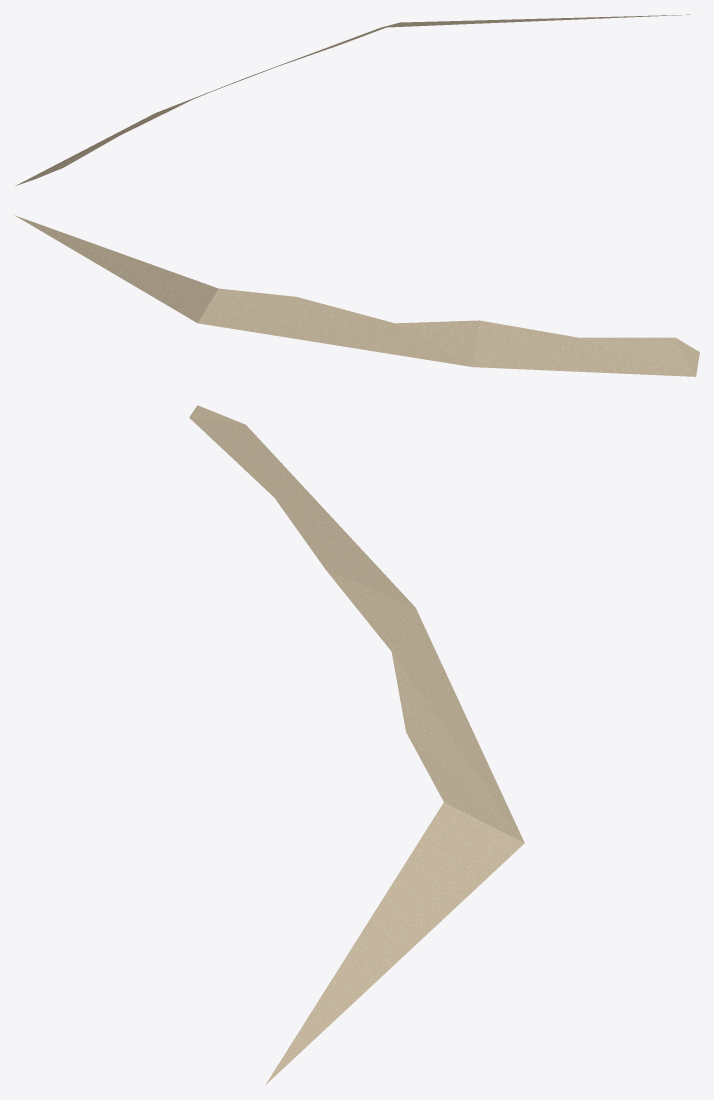
File: kd_stage_1364a3_11_18.glb
3 views of the same model, one above another, from view 1: azimuth 30°, elevation 25°; view 2: azimuth 150°, elevation 25°; view 3: azimuth 270°, elevation 25° (orthographic). The views are drawn at different scales.
Visible parts, largest first — view 1: kd_stage_1364a3_11_18; view 2: kd_stage_1364a3_11_18; view 3: kd_stage_1364a3_11_18.
Boxes of the visible parts, box(x1,y1,x2,y2) form: kd_stage_1364a3_11_18: box(15, 14, 698, 185); kd_stage_1364a3_11_18: box(14, 215, 699, 376); kd_stage_1364a3_11_18: box(189, 405, 524, 1085).
Bounding box in the file's own units: 75.32 × 2.81 × 16.16.
1 material, 1 textured.
